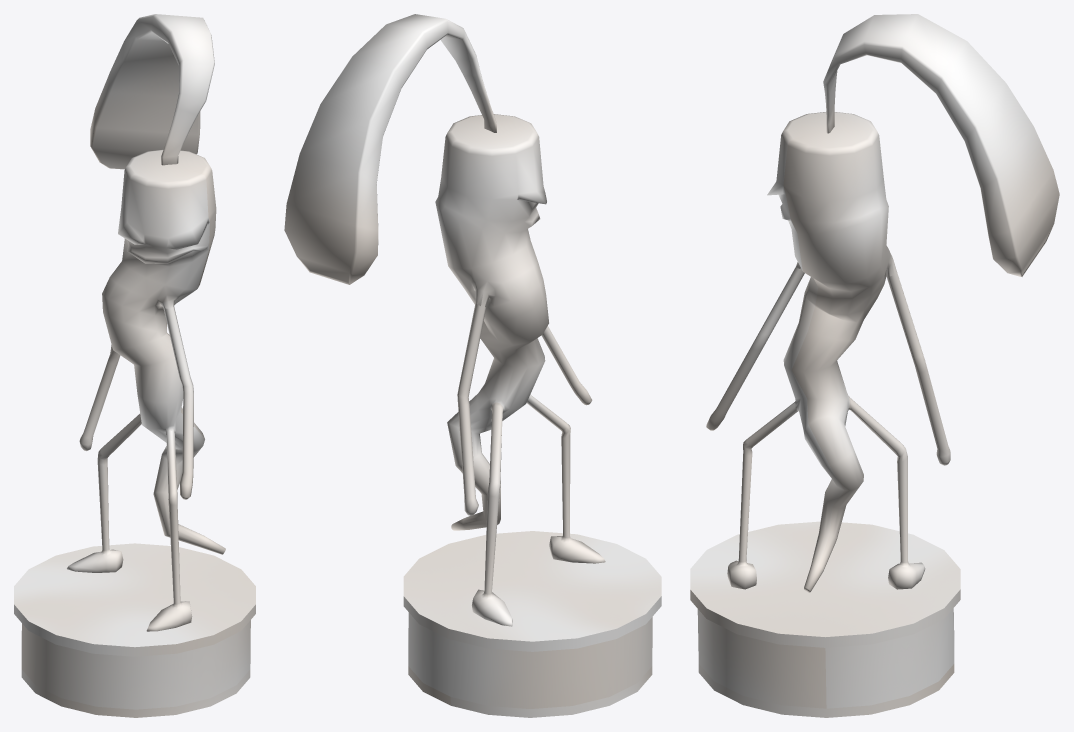
Rendered from CarrotStatue_2.fbx.
3 views of the same model, side by side, from view 1: azimuth 30°, elevation 25°; view 2: azimuth 150°, elevation 25°; view 3: azimuth 270°, elevation 25° (orthographic). The views are drawn at different scales.
Visible parts, largest first — view 1: grape body; view 2: grape body; view 3: grape body.
Part boxes in pixels (bbox=[...]): grape body: bbox=[14, 14, 255, 717]; grape body: bbox=[284, 14, 661, 717]; grape body: bbox=[690, 14, 1059, 717].
Size of the model in its own units: 19.44 by 44.55 by 21.88.
